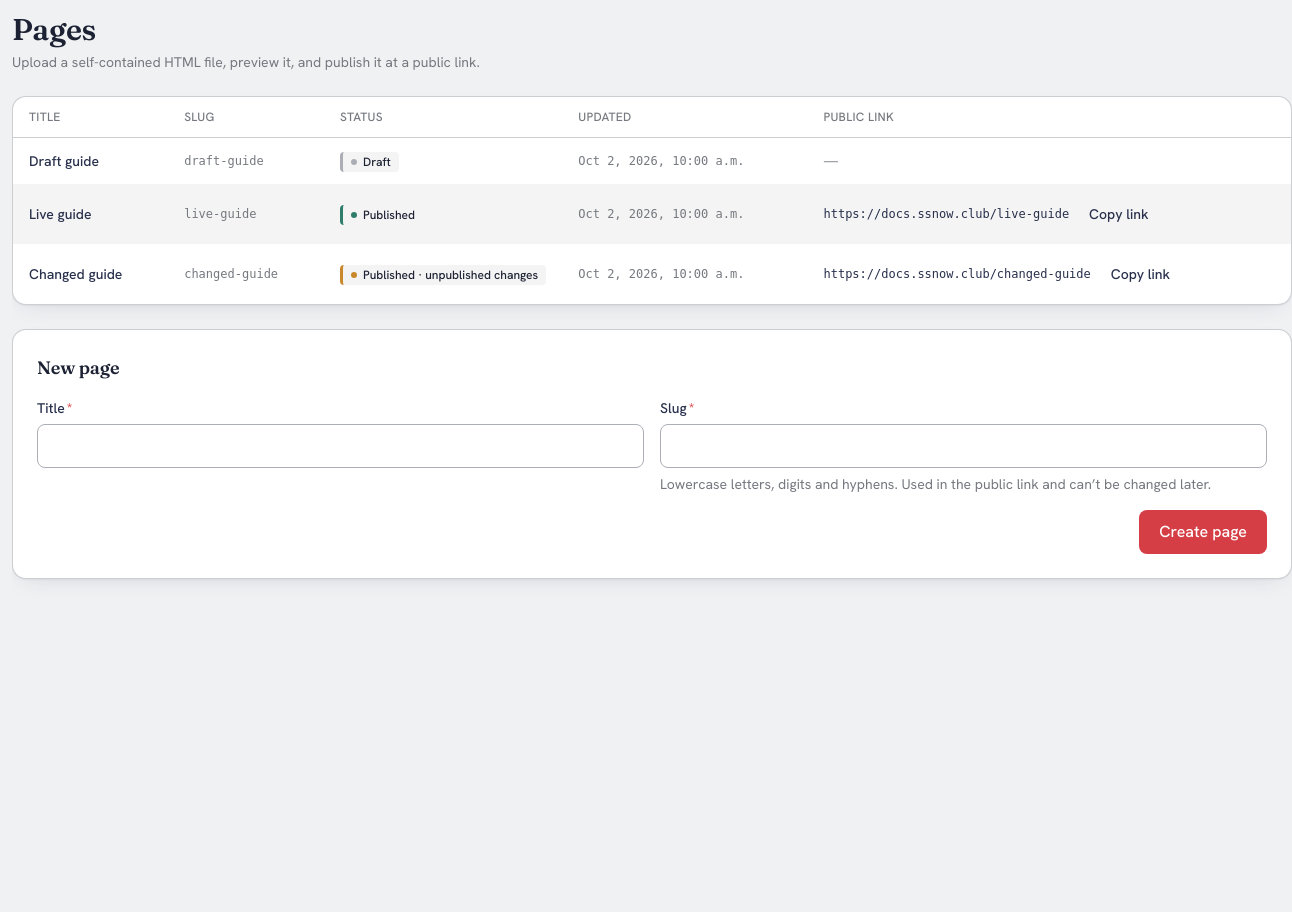
Test: PagesListPage create › shows other create errors in a banner
Expected: the link "Draft guide" is shown, [29, 152, 99, 170]
Type "Guide" into the field labelled "Title*" at {"x": 340, "y": 446}, box [37, 424, 644, 468]
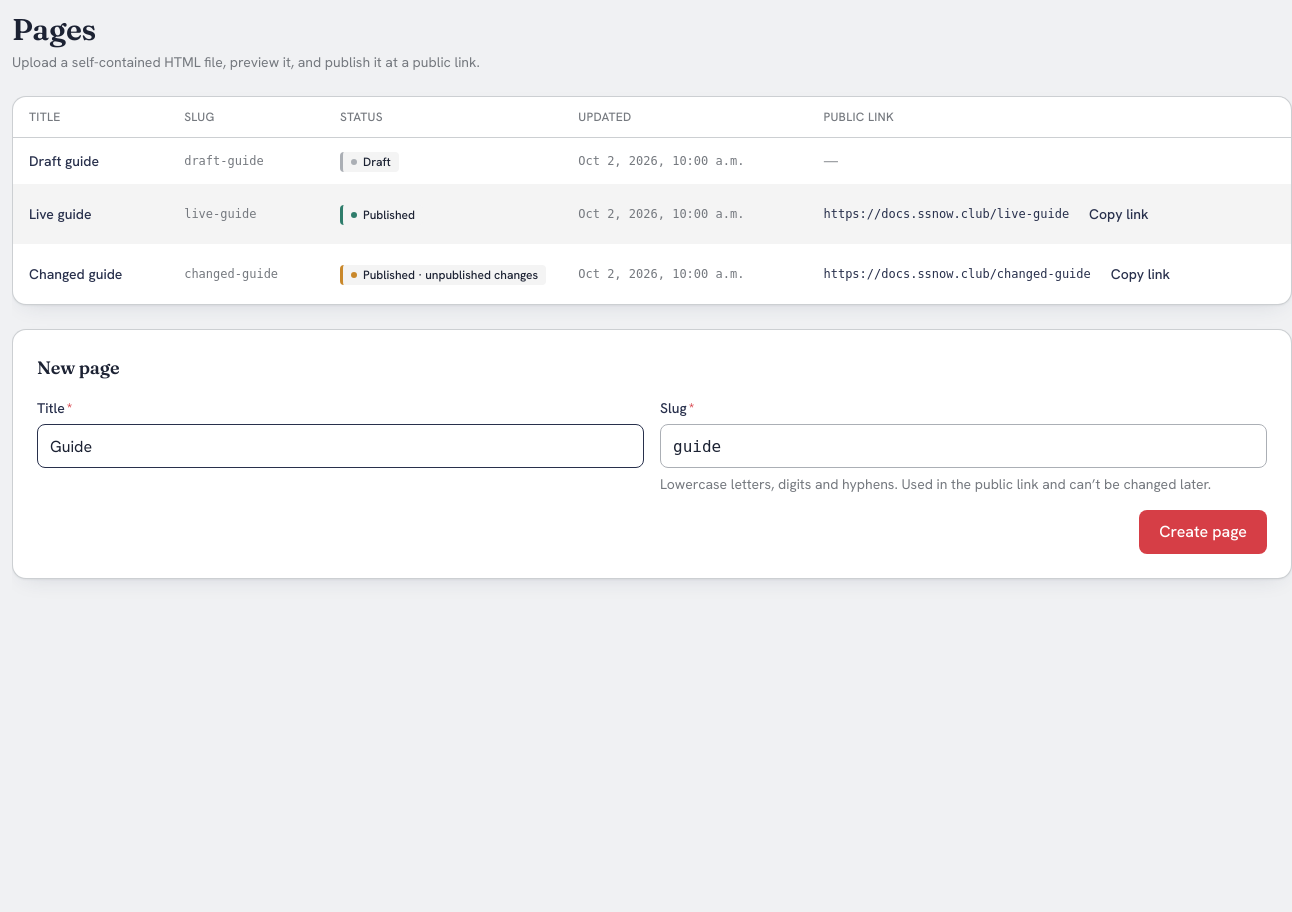
Click the button named "Create page" at {"x": 1203, "y": 532}, box [1139, 510, 1267, 554]
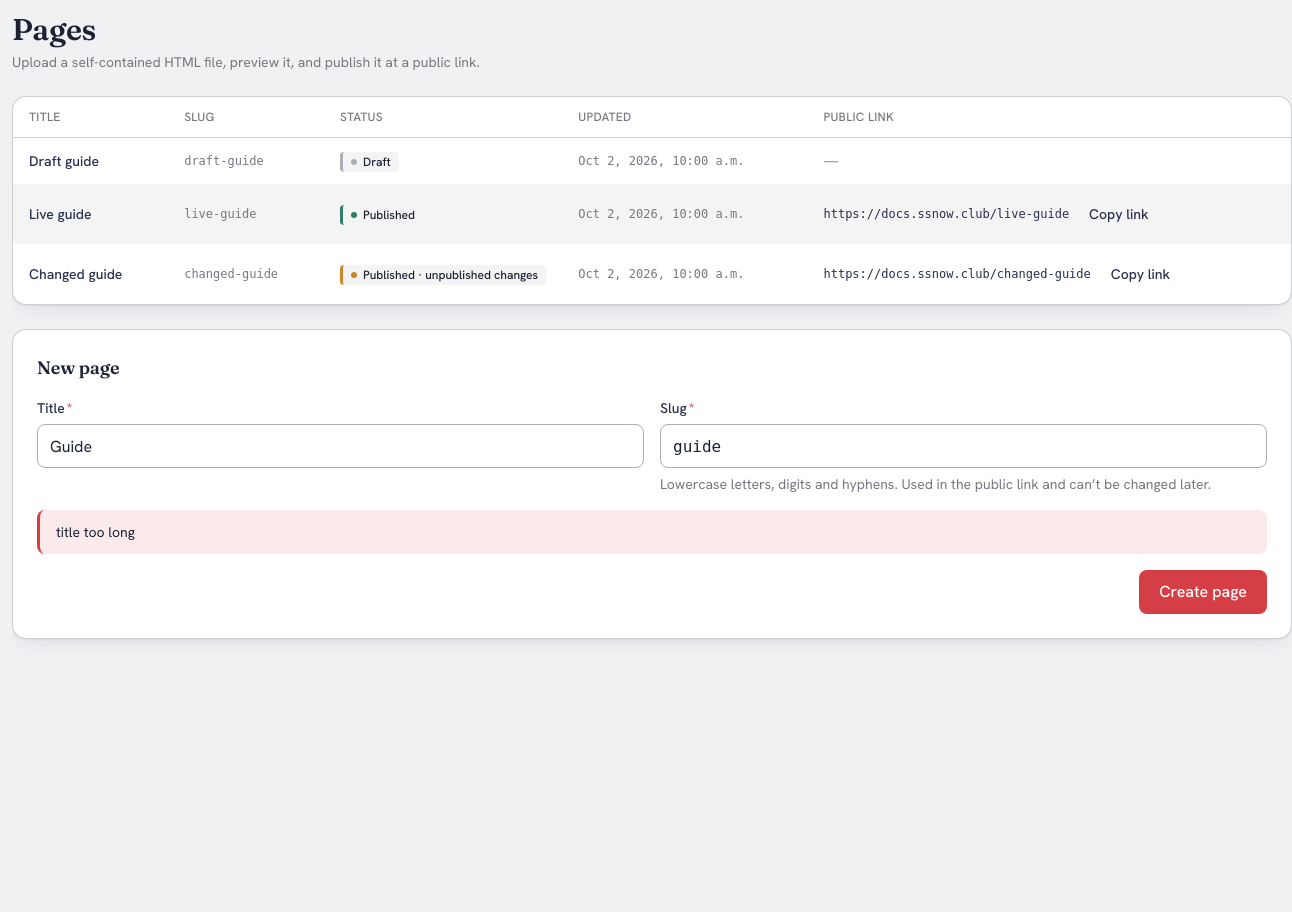
Expected: the message reads "title too long", [56, 523, 135, 541]
